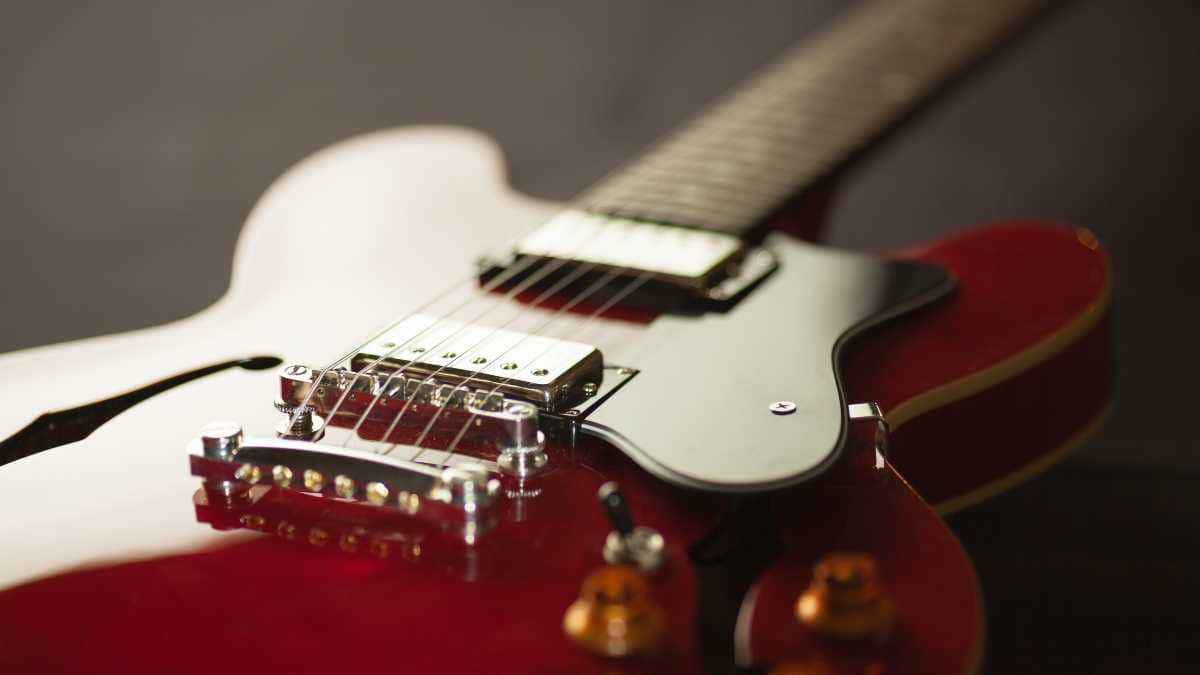guitar: (3, 0, 1133, 670)
